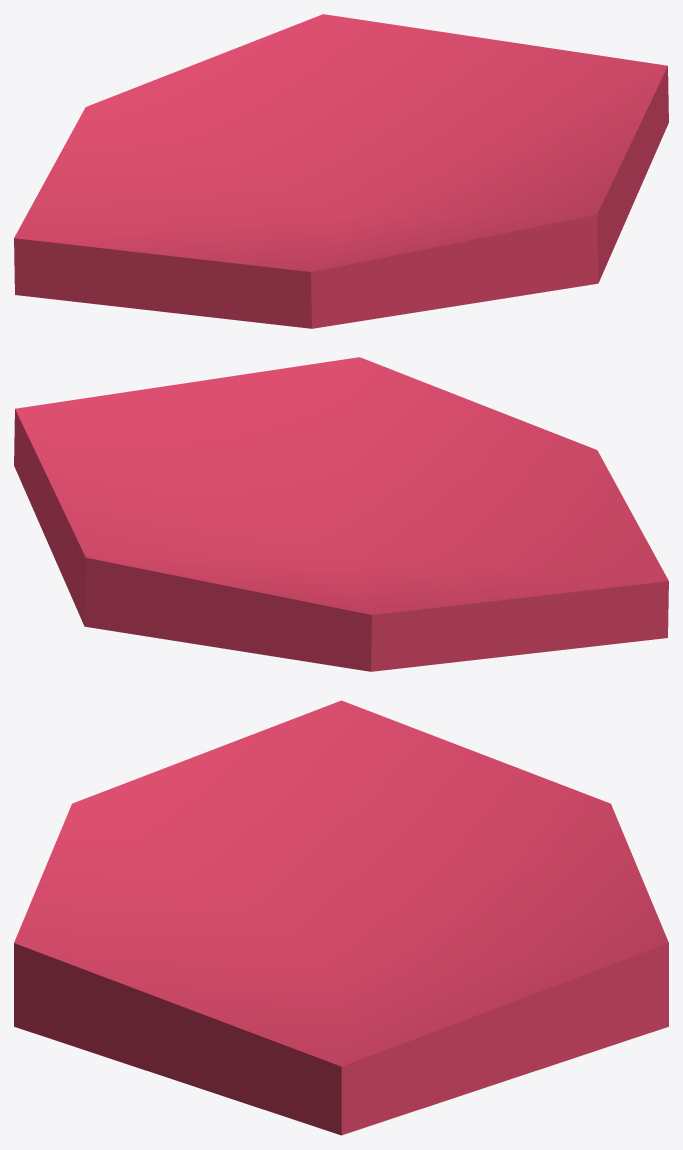
Rendered from leaf1.fbx.
3 renders of one model, top to bottom at view 1: azimuth 30°, elevation 25°; view 2: azimuth 150°, elevation 25°; view 3: azimuth 270°, elevation 25°, orthographic. The views are drawn at different scales.
Parts seen in each view (by area): view 1: pCylinder3; view 2: pCylinder3; view 3: pCylinder3.
Part boxes in pixels (x1,y1,x2,y2): pCylinder3: (14, 14, 668, 328); pCylinder3: (14, 357, 668, 671); pCylinder3: (14, 700, 668, 1135).
Bounding box in the file's own units: 107 × 21.02 × 77.82.
